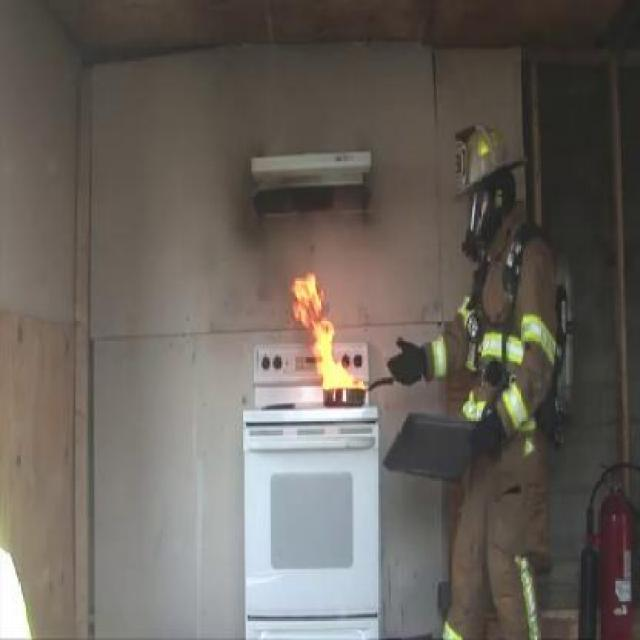fire: (291, 278, 364, 393)
